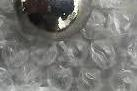ironball: (13, 0, 93, 43)
